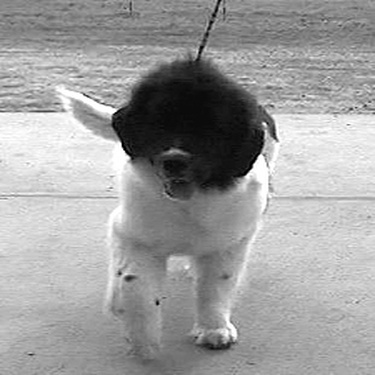dog: (37, 52, 288, 365)
